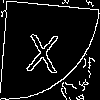X: (25, 24, 62, 74)
